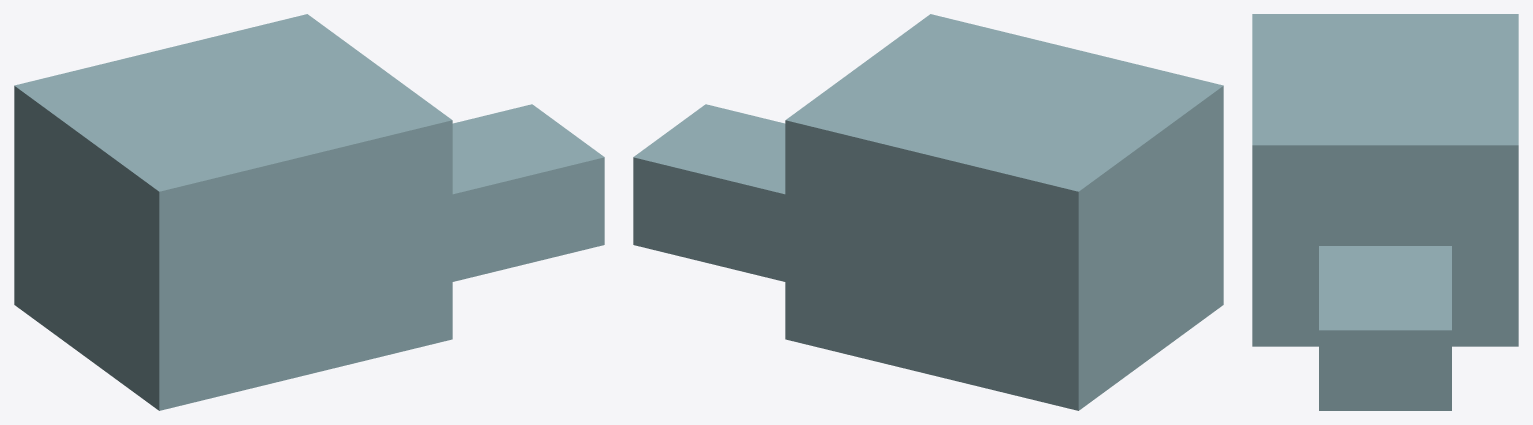
File: pump.gltf
3 renders of one model, left to right at view 1: azimuth 30°, elevation 25°; view 2: azimuth 150°, elevation 25°; view 3: azimuth 270°, elevation 25°, orthographic. The views are drawn at different scales.
Bounding box in the file's own units: 23 × 10 × 12.
